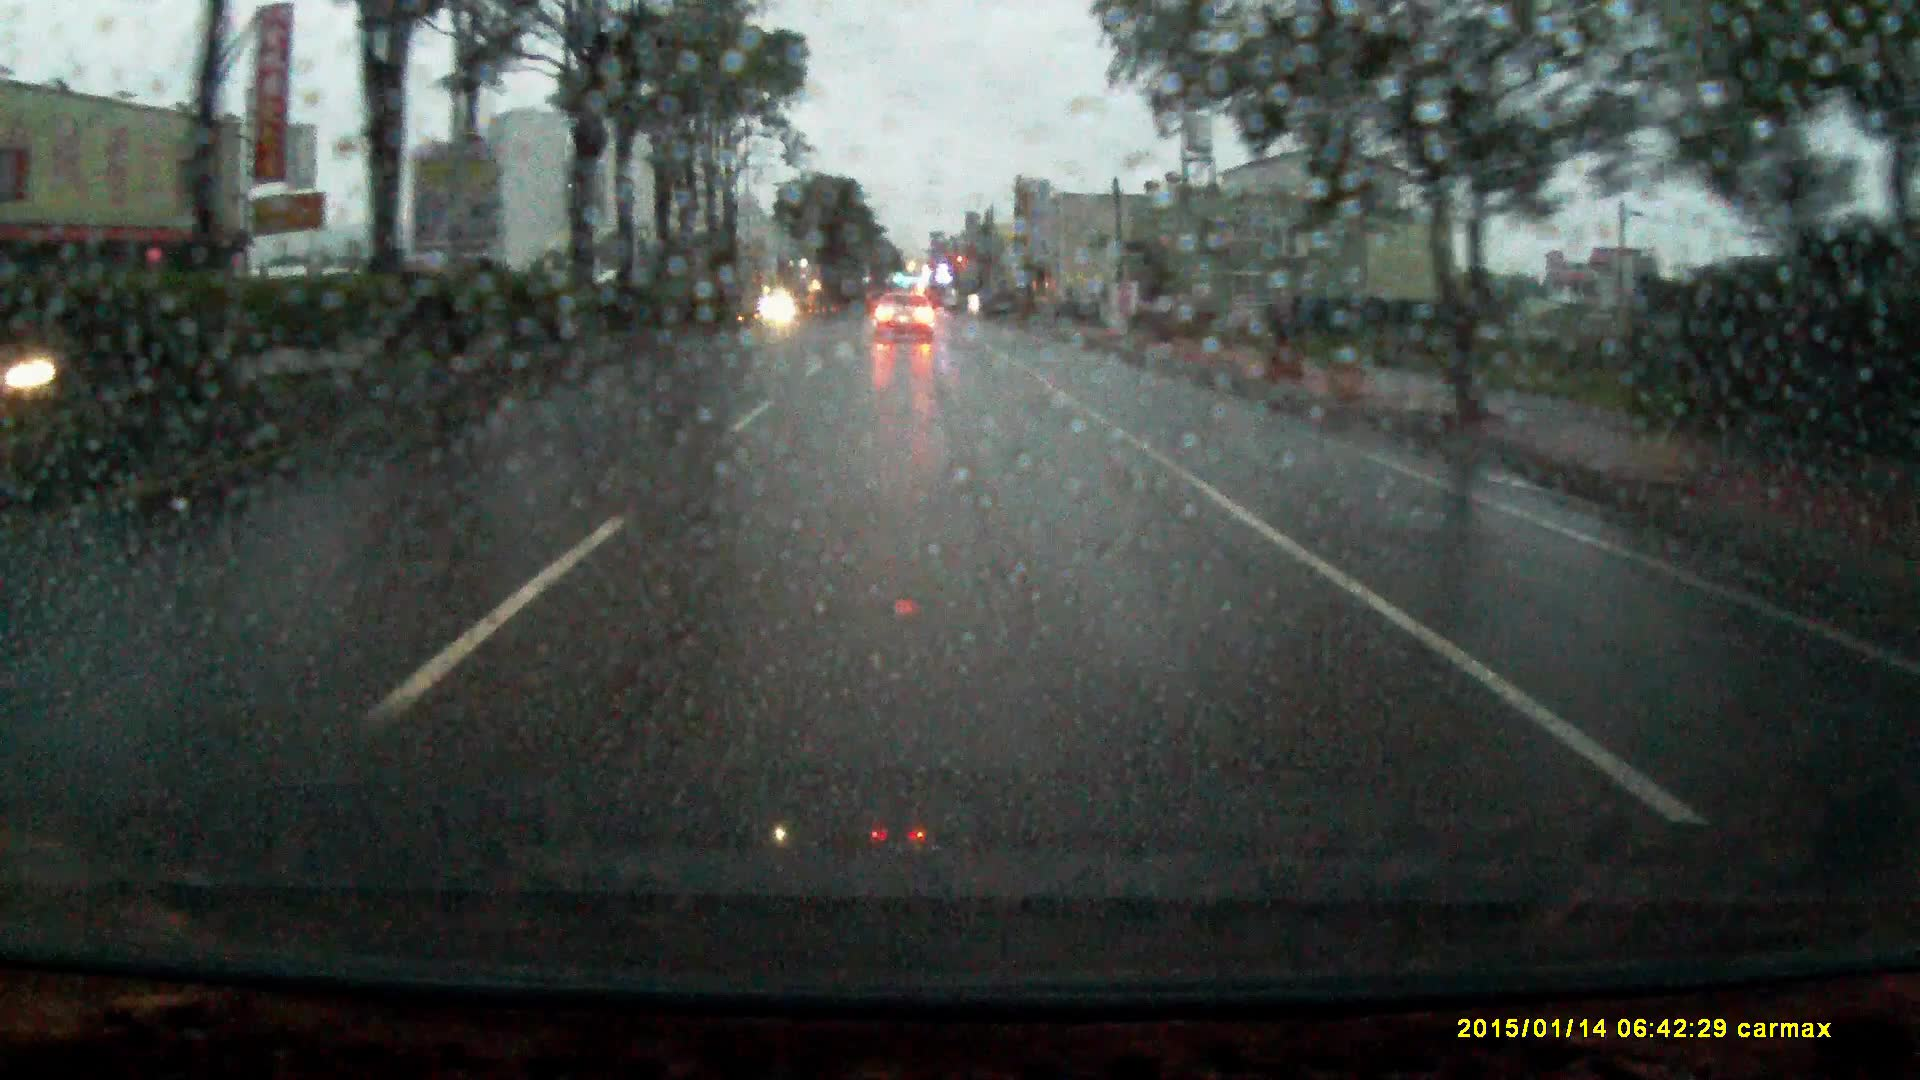vehicle: (876, 297, 936, 343)
